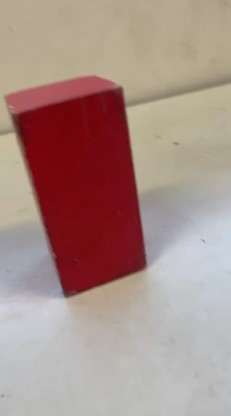red: (18, 66, 146, 298)
